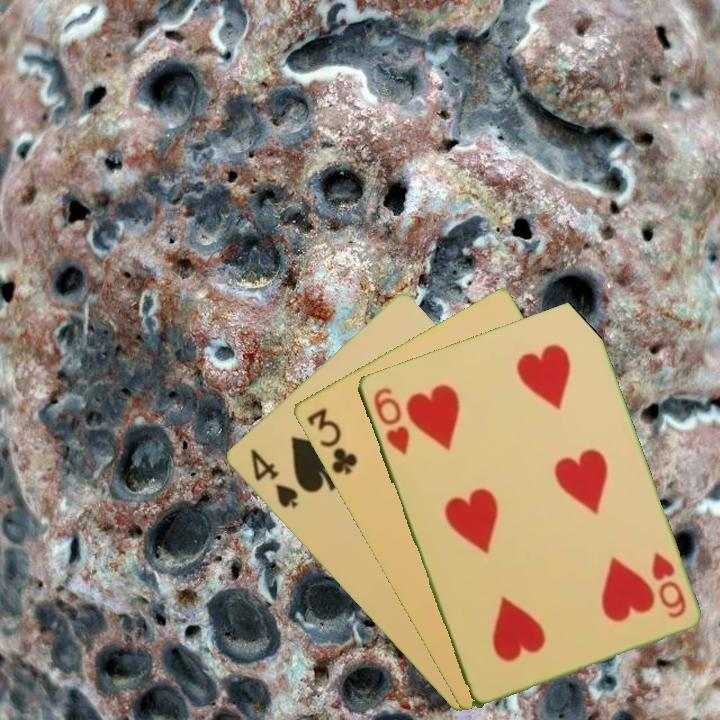3c: (303, 404, 360, 479)
4s: (246, 444, 301, 511)
6h: (369, 383, 412, 458), (647, 548, 689, 621)
